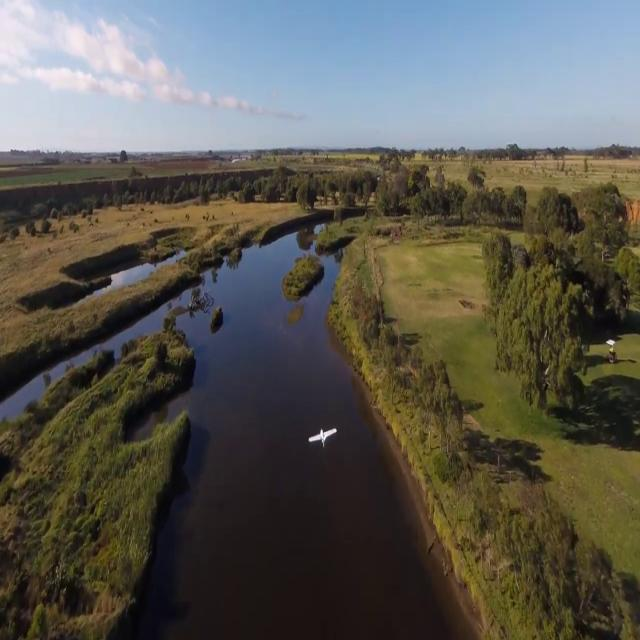iha: (306, 428, 337, 452)
